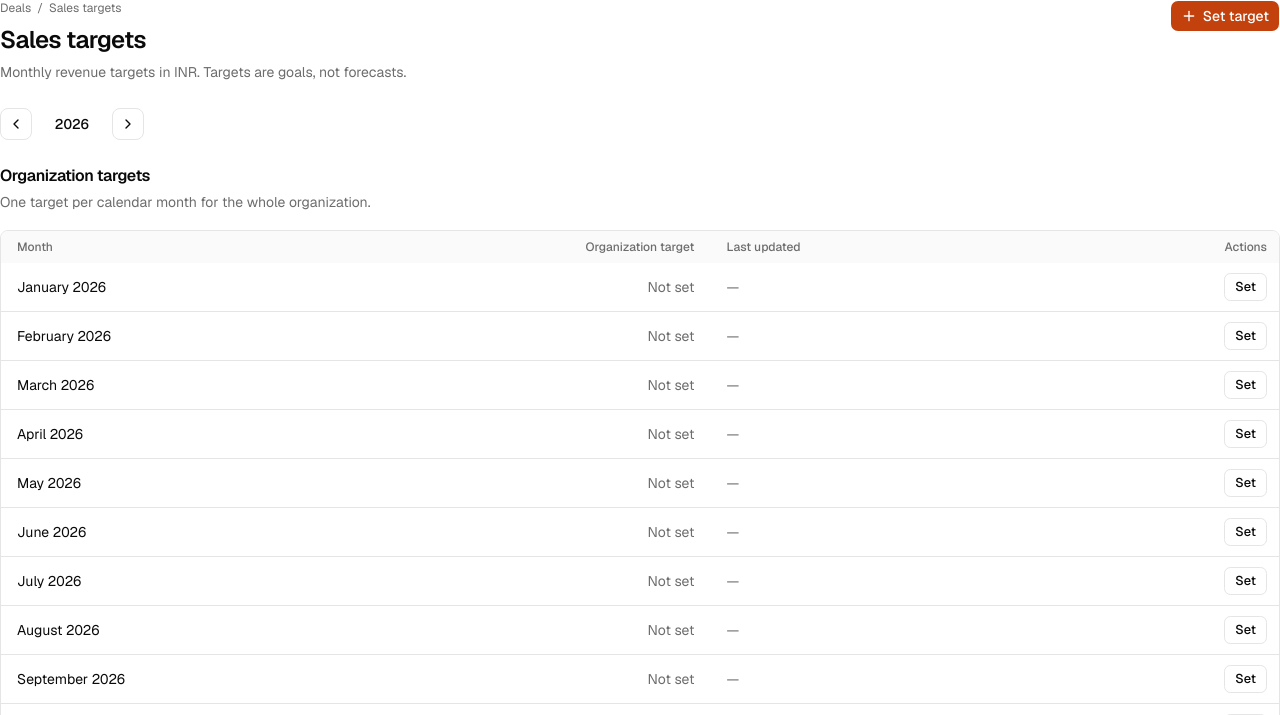
Sales targets page › creates an organization-wide target with an exact string amount
DataTable renders desktop and mobile layouts, so each row action appears twice.
Click the button "Set" in the row of "March 2026". click: (1246, 385)
box: [1224, 371, 1267, 399]
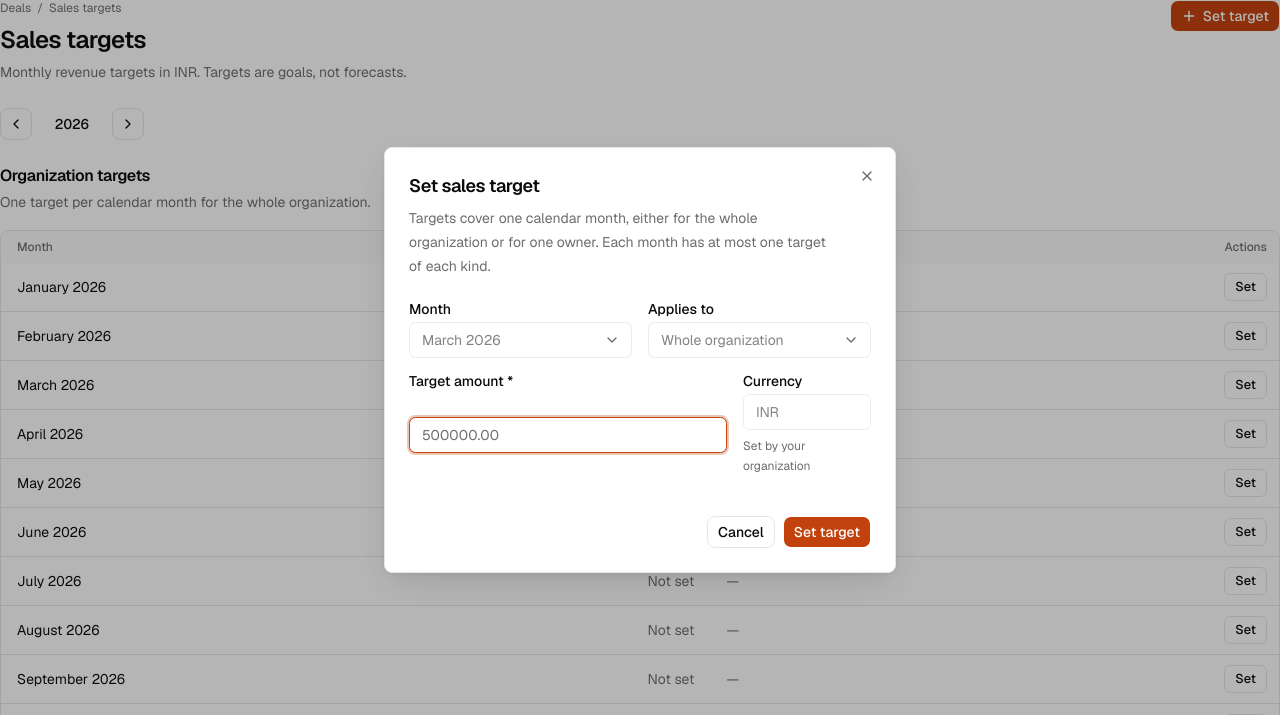
Result: the dropdown labelled "Month" is disabled at [409, 322, 632, 358]
Result: the field labelled "Currency" holds "INR" at [743, 394, 871, 430]
Type "7,50,000" into the field labelled "Target amount *". click: (568, 435)
box: [409, 417, 727, 453]
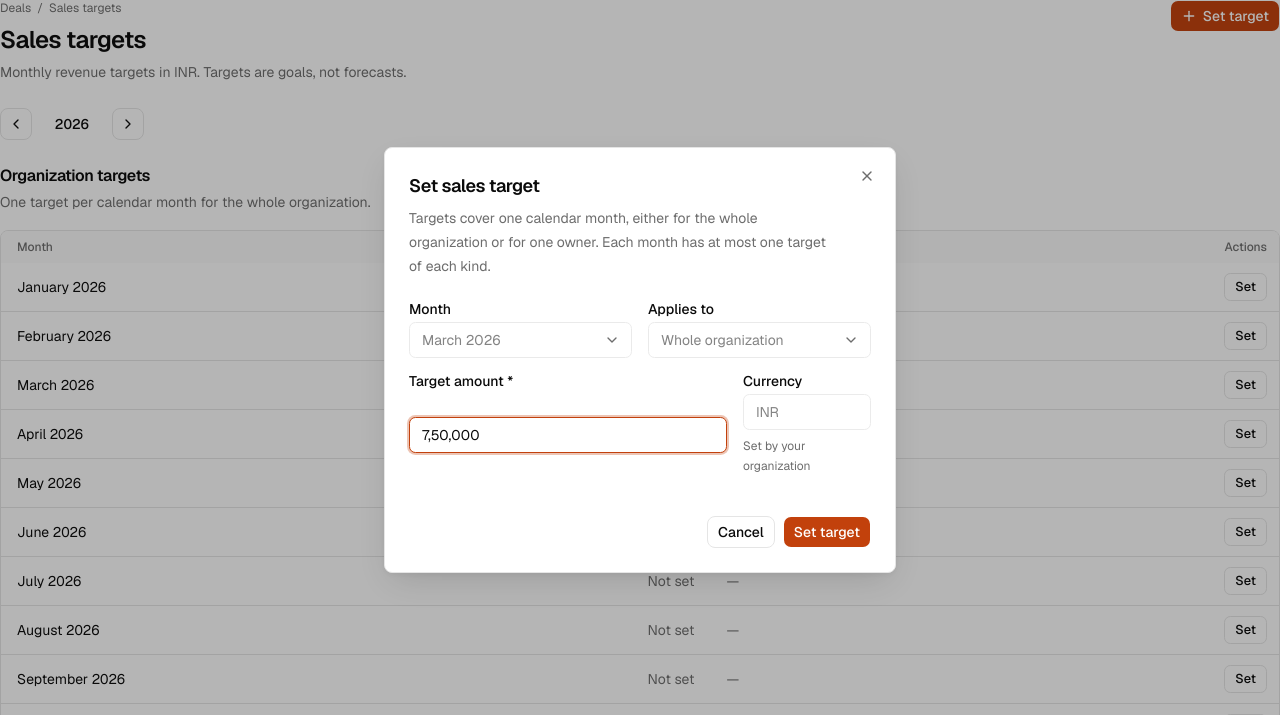
Click the button "Set target". click: (827, 532)
box: [783, 516, 871, 548]
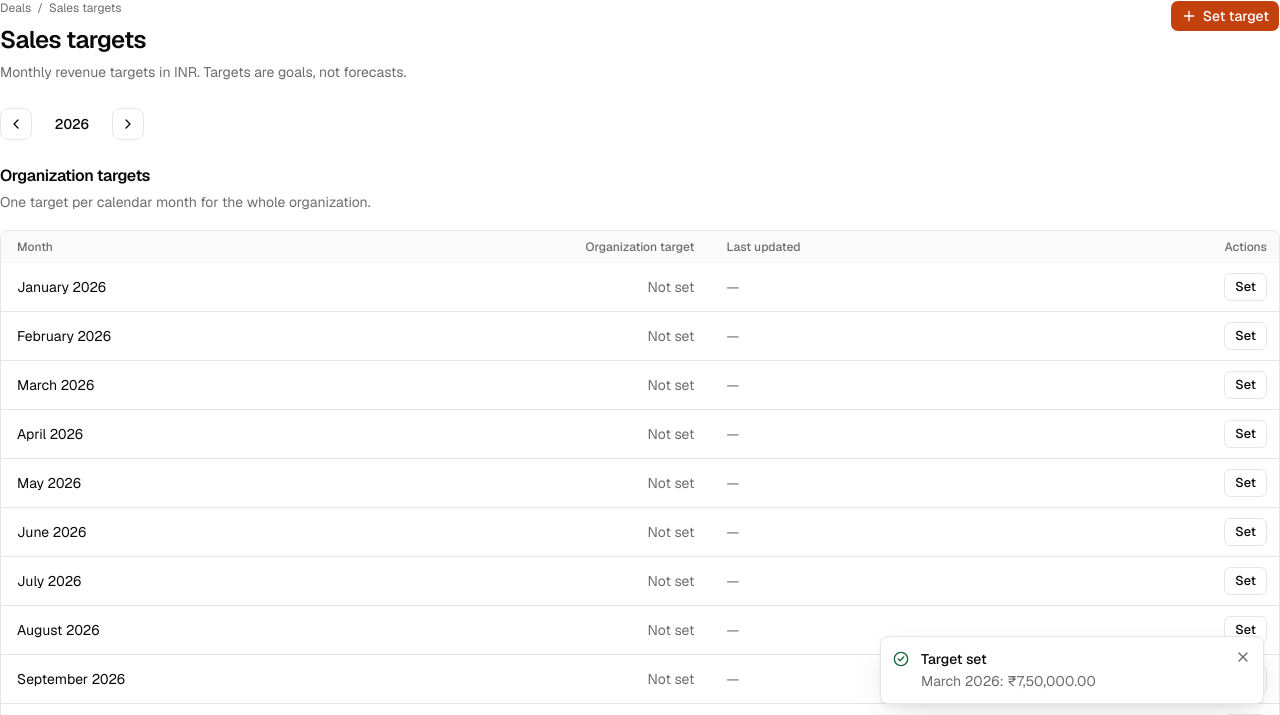
Result: the heading "Target set" is shown at [921, 650, 987, 668]
